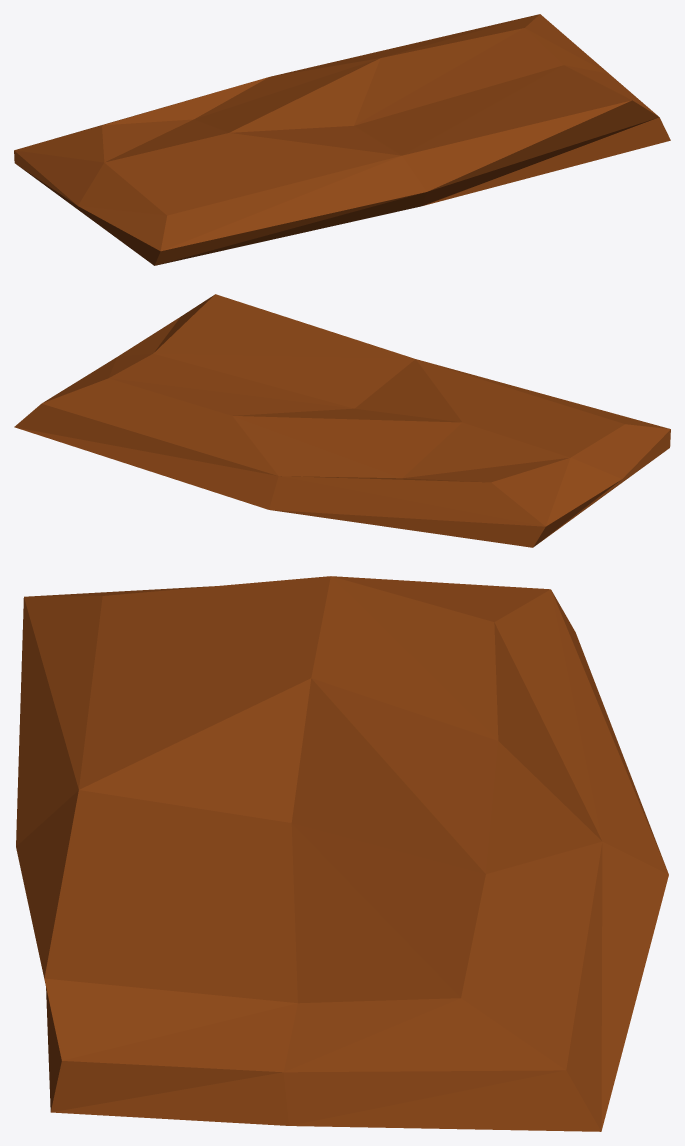
File: Prop_Fantasy_Bed_Hide_Cloth_Straw_01.FBX
3 renders of one model, top to bottom at view 1: azimuth 30°, elevation 25°; view 2: azimuth 150°, elevation 25°; view 3: azimuth 270°, elevation 25°, orthographic. The views are drawn at different scales.
Visible parts, largest first — view 1: Prop_Fantasy_Bed_Hide_Cloth_Straw_01; view 2: Prop_Fantasy_Bed_Hide_Cloth_Straw_01; view 3: Prop_Fantasy_Bed_Hide_Cloth_Straw_01.
Part boxes in pixels (box(x1,y1,x2,y2)): Prop_Fantasy_Bed_Hide_Cloth_Straw_01: box(14, 14, 670, 265); Prop_Fantasy_Bed_Hide_Cloth_Straw_01: box(14, 294, 670, 547); Prop_Fantasy_Bed_Hide_Cloth_Straw_01: box(16, 576, 668, 1131).
Size of the model in its own units: 1564 by 145 by 839.
